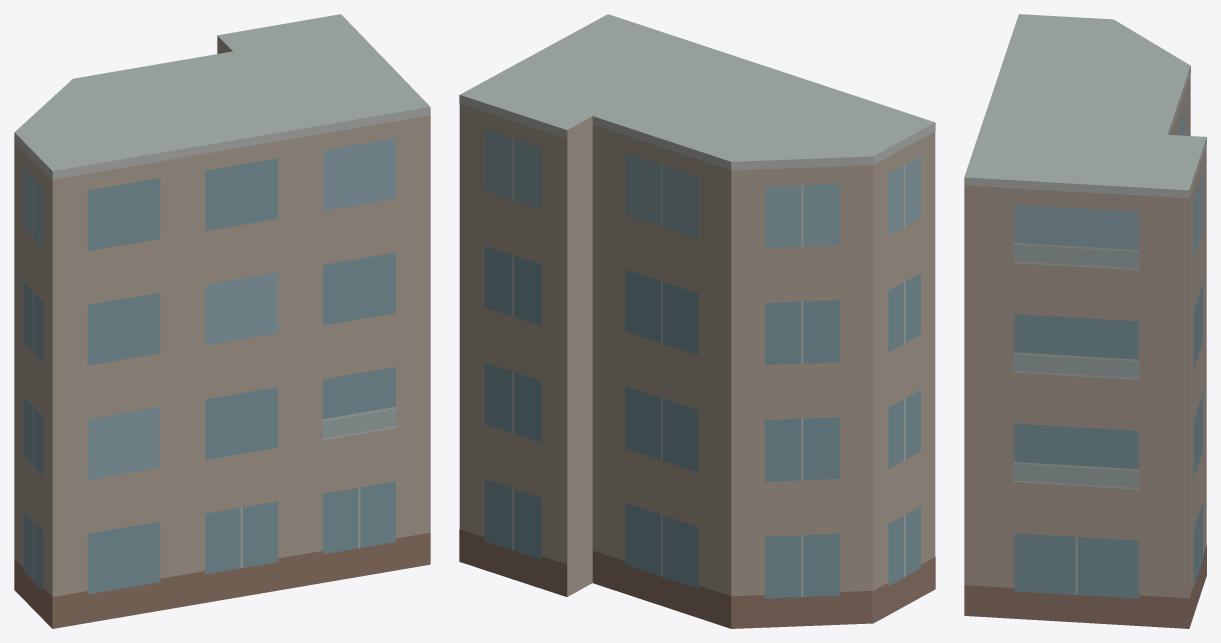
The model's file is survey-upis-32613448.glb.
3 views of the same model, side by side, from view 1: azimuth 30°, elevation 25°; view 2: azimuth 150°, elevation 25°; view 3: azimuth 270°, elevation 25° (orthographic). The views are drawn at different scales.
Visible parts, largest first — view 1: survey-upis-32613448.tmp; view 2: survey-upis-32613448.tmp; view 3: survey-upis-32613448.tmp.
Part boxes in pixels (bbox=[...]): survey-upis-32613448.tmp: bbox=[14, 14, 430, 628]; survey-upis-32613448.tmp: bbox=[459, 14, 935, 628]; survey-upis-32613448.tmp: bbox=[964, 14, 1206, 628].
Size of the model in its own units: 11.4 by 13.2 by 6.63.
